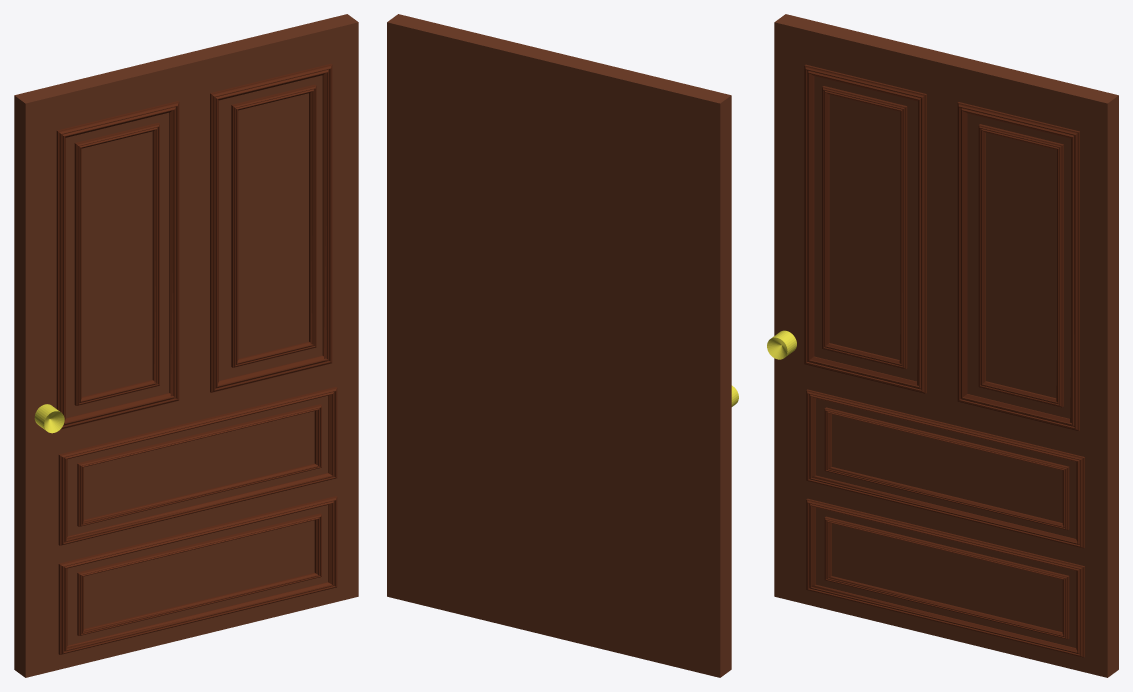
Rendered from Door_G.fbx.
The picture shows the model from 3 angles, left to right: view 1: azimuth 30°, elevation 25°; view 2: azimuth 150°, elevation 25°; view 3: azimuth 330°, elevation 25°; orthographic projection.
Visible parts, largest first — view 1: 立方体, 平面.005, 平面.004, 平面.002, 平面.000, 平面.001, 平面.003, 円柱; view 2: 立方体; view 3: 立方体, 平面.005, 平面.004, 平面.002, 平面.000, 平面.003, 平面.001, 円柱.
Part boxes in pixels (<box>): 立方体: <box>14,14,358,677</box>; 平面.005: <box>58,496,337,654</box>; 平面.004: <box>58,387,337,545</box>; 平面.002: <box>56,101,179,429</box>; 平面.000: <box>210,63,332,392</box>; 平面.001: <box>231,84,316,367</box>; 平面.003: <box>74,122,159,405</box>; 円柱: <box>34,404,64,433</box>; 立方体: <box>387,14,731,677</box>; 立方体: <box>774,14,1118,677</box>; 平面.005: <box>806,498,1084,657</box>; 平面.004: <box>806,389,1084,548</box>; 平面.002: <box>804,64,926,393</box>; 平面.000: <box>957,102,1079,430</box>; 平面.003: <box>822,86,907,369</box>; 平面.001: <box>978,124,1063,407</box>; 円柱: <box>767,330,796,359</box>.
Size of the model in its own units: 340 by 560 by 43.02.
